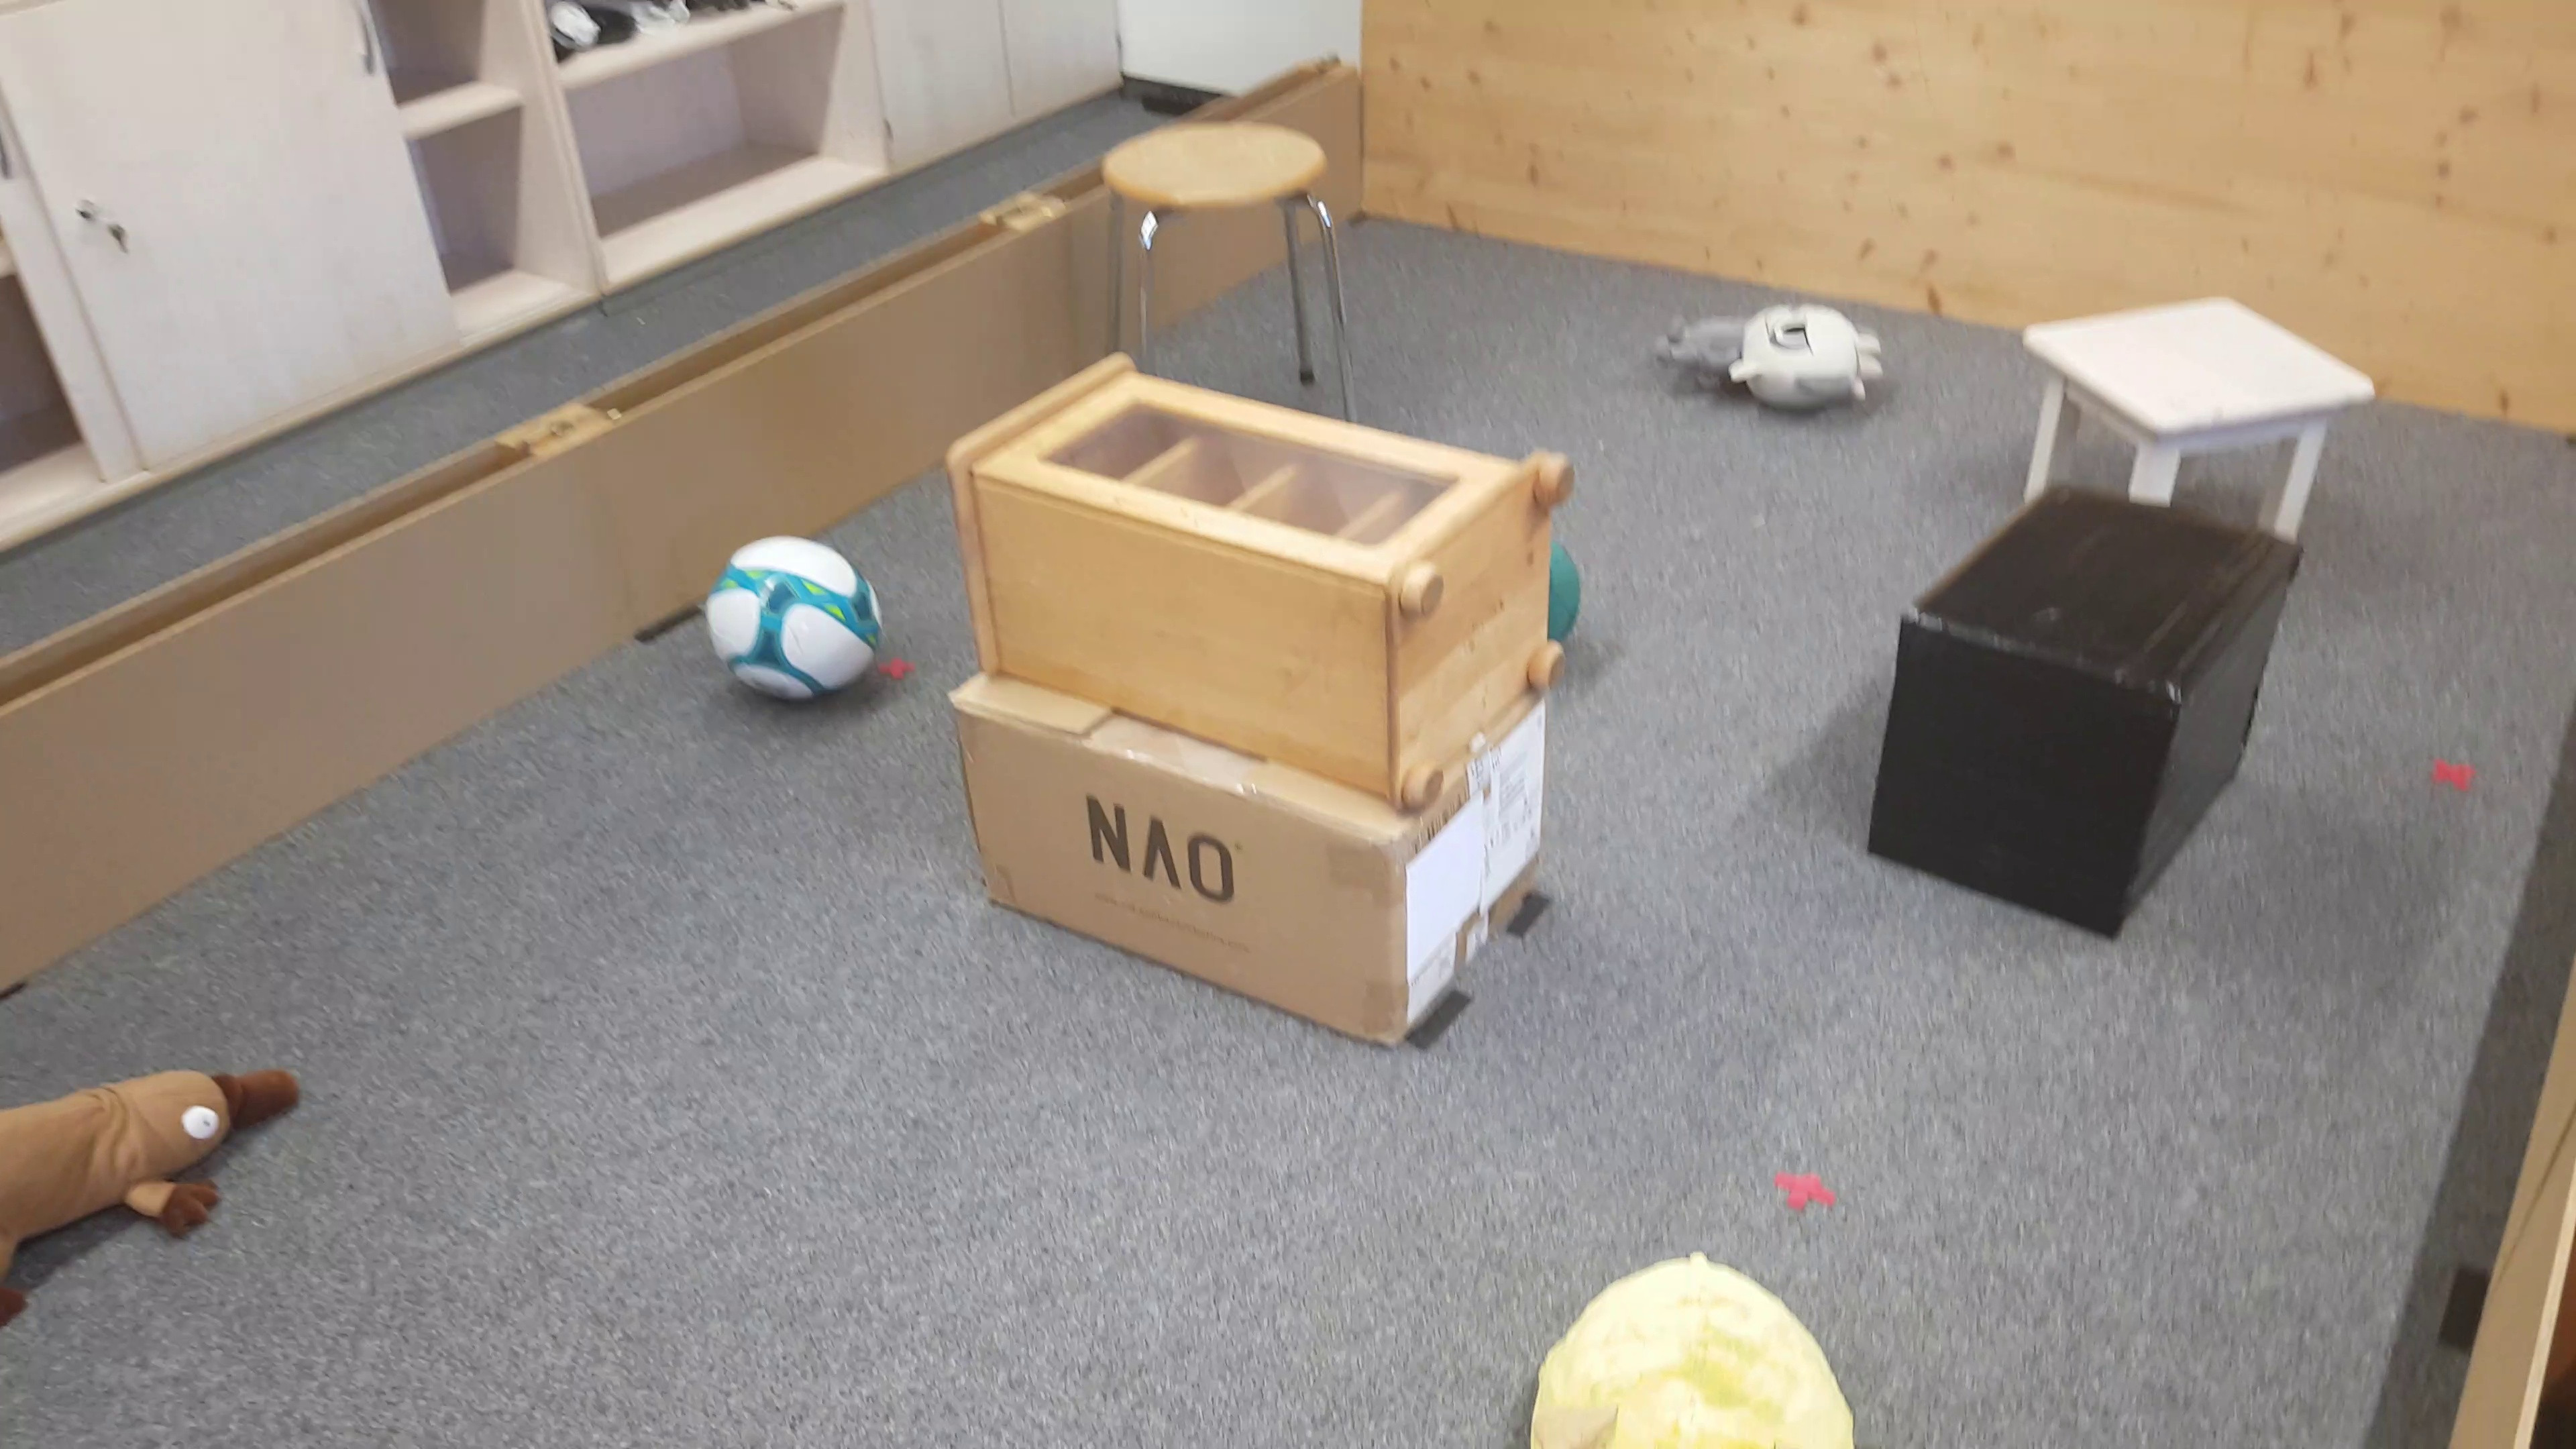grasp: (2, 1062, 310, 1327), (1527, 1249, 1870, 1449), (1656, 297, 1874, 423)
kick: (709, 534, 892, 708)
push: (1865, 487, 2298, 941)
